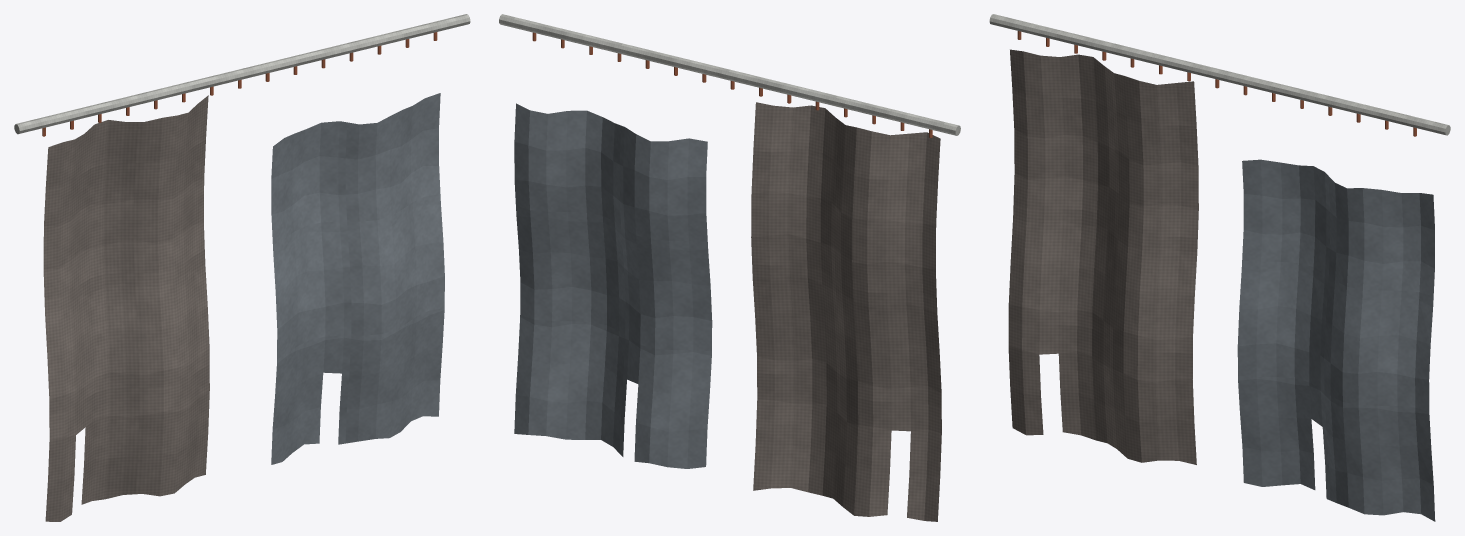
The model's file is torn_interior_curtains.glb.
3 views of the same model, side by side, from view 1: azimuth 30°, elevation 25°; view 2: azimuth 150°, elevation 25°; view 3: azimuth 330°, elevation 25° (orthographic).
Visible parts, largest first — view 1: InteriorPropGeometry; view 2: InteriorPropGeometry; view 3: InteriorPropGeometry.
Boxes of the visible parts, bbox=[...] form: InteriorPropGeometry: bbox=[14, 14, 470, 521]; InteriorPropGeometry: bbox=[499, 14, 960, 521]; InteriorPropGeometry: bbox=[989, 14, 1450, 521].
Bounding box in the file's own units: 2.5 × 2.14 × 0.175.
Materials: 4 (4 with a texture image).
